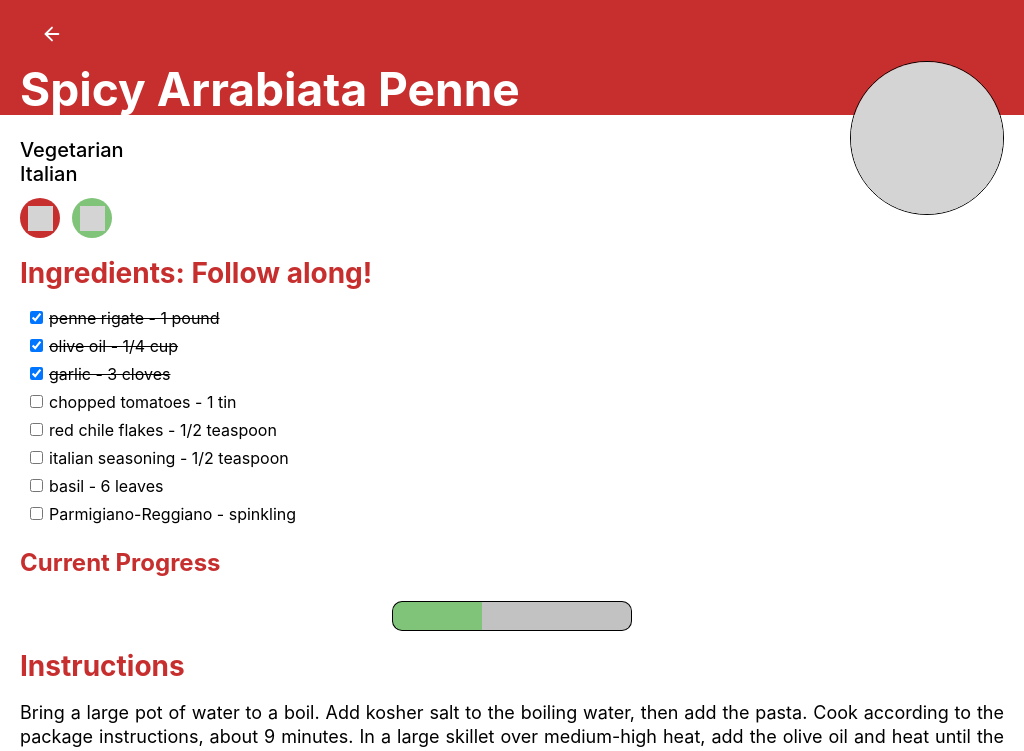
Test: food details page structure testing › should copy link to clipboard when share link clicked
This screenshot has width=1024, height=751.
Expected: the heading "Spicy Arrabiata Penne" is shown, [20,61,520,117]
Click the button with test id "share-btn": (92, 218) [72,198,112,238]
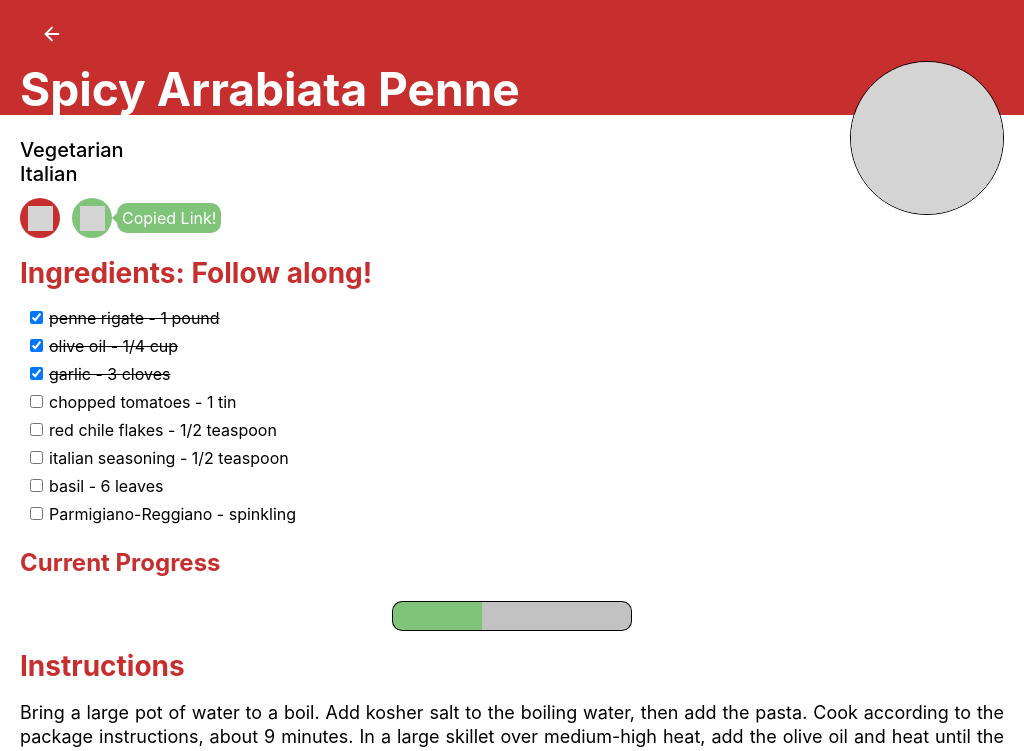
Result: the text "Copied Link!" is shown at [117,203,221,233]
